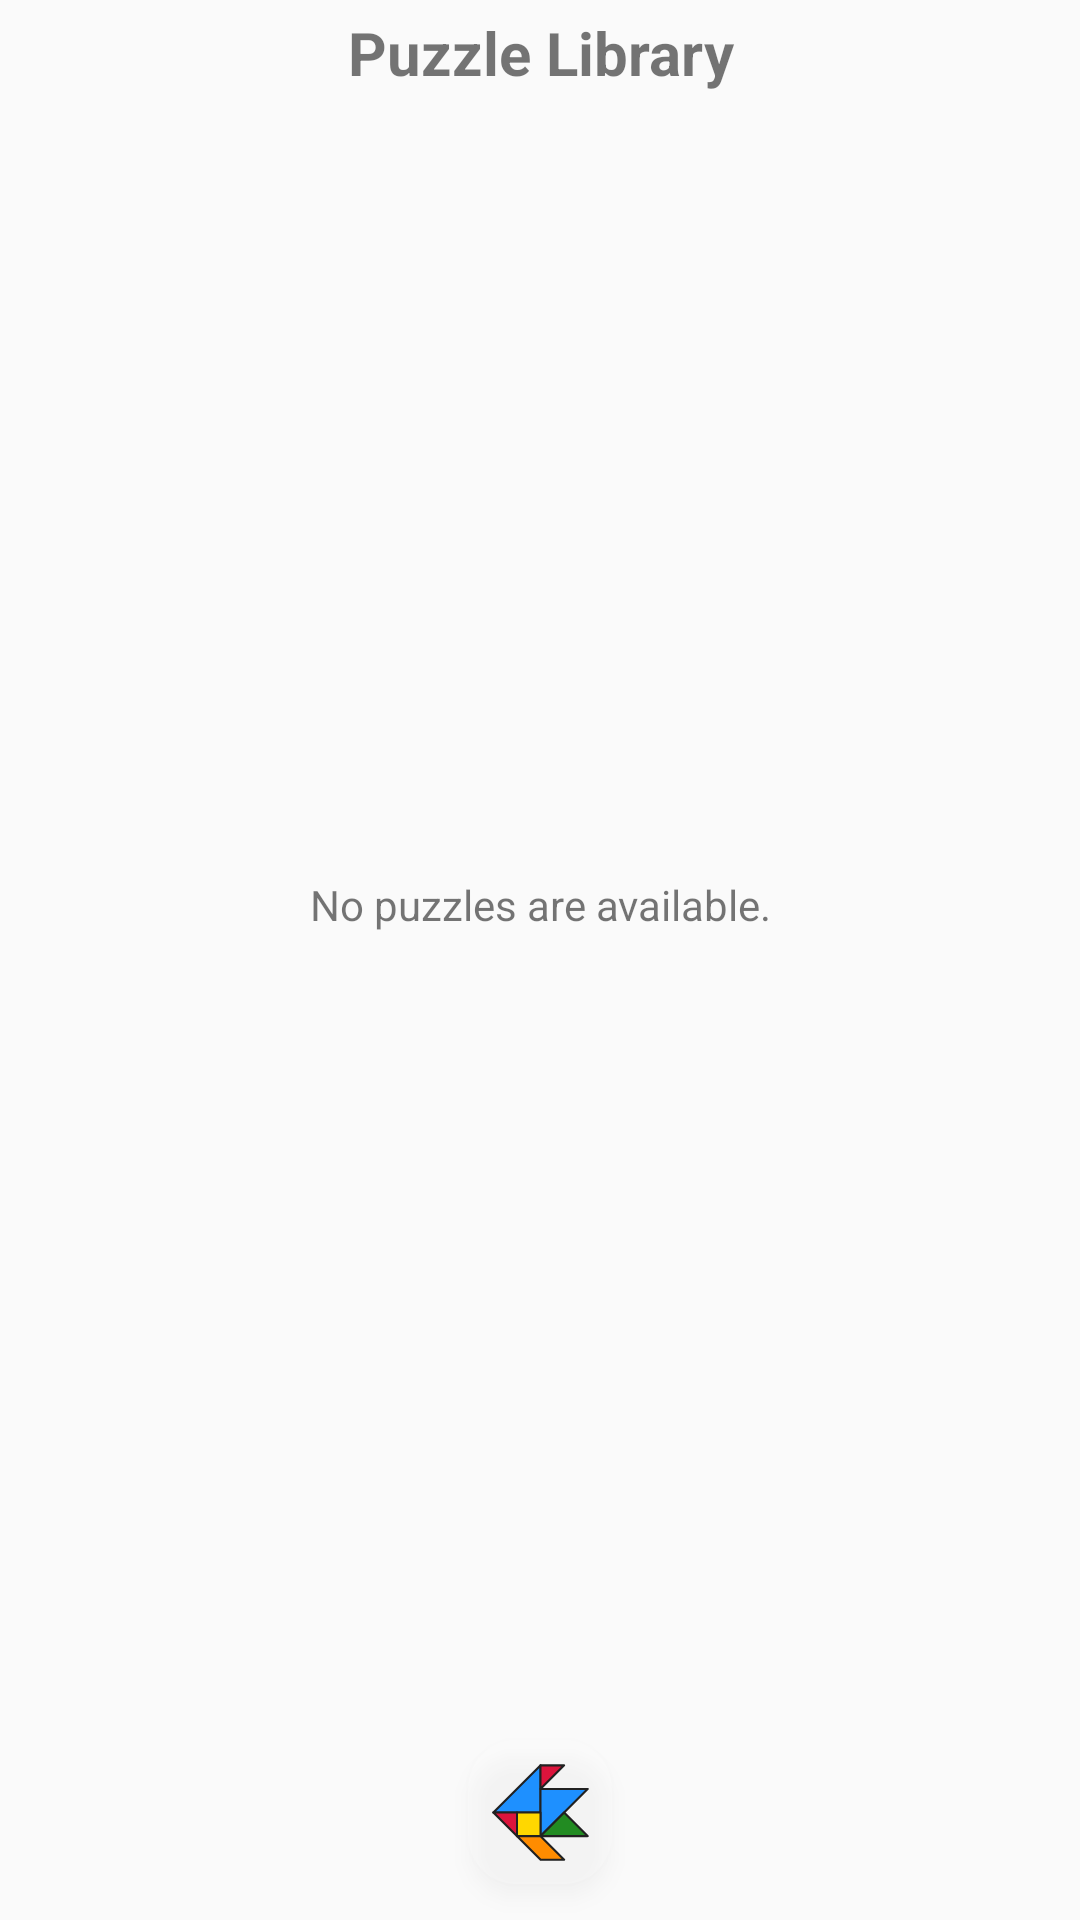

Icon click points for this 1080px x 1920px phone screenshot, format point (x, y):
Back to main menu: point (540, 1812)
